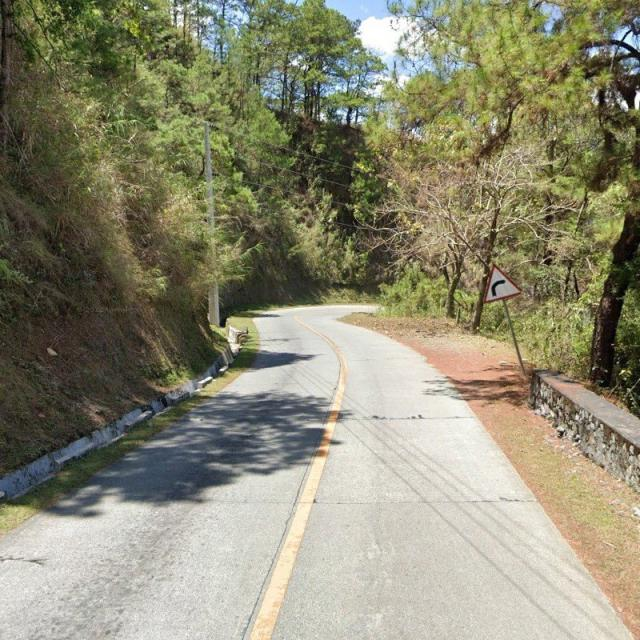warn_right_curve: (482, 264, 522, 303)
